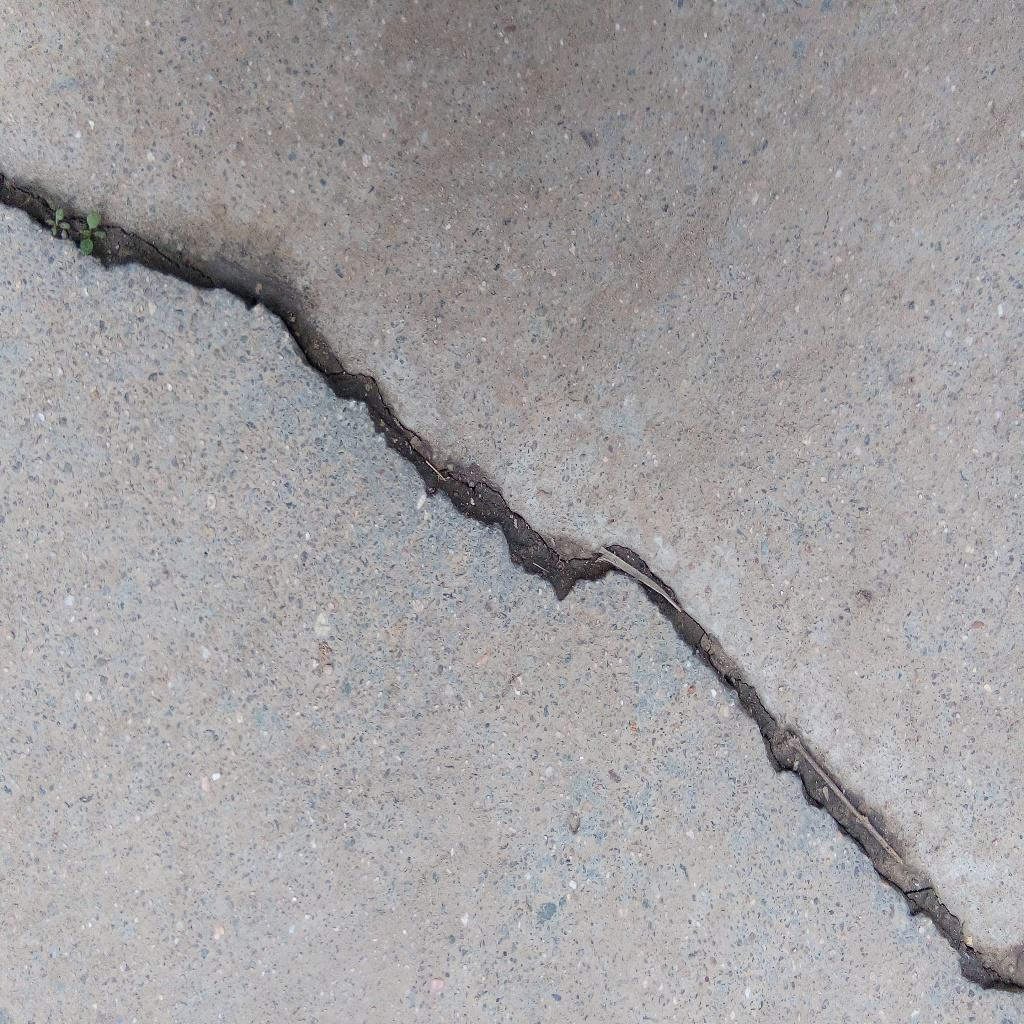Crack: (1, 167, 1024, 998)
